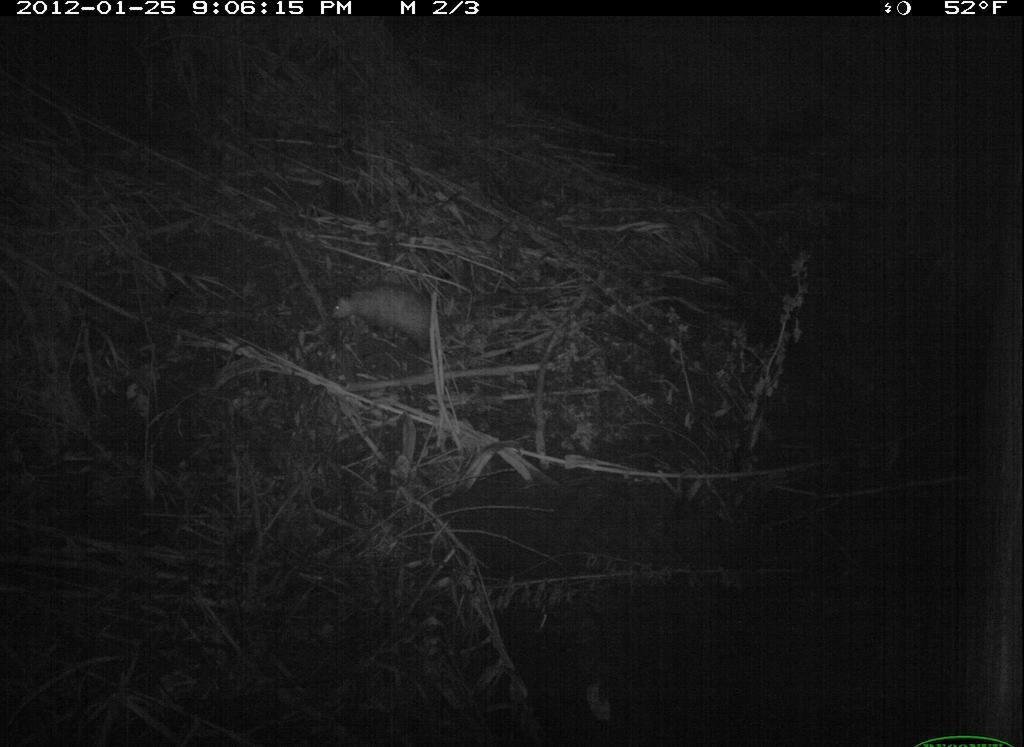opossum: (322, 273, 491, 368)
